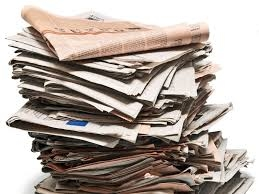paper: (27, 136, 253, 194), (17, 4, 238, 61), (8, 61, 213, 121), (3, 31, 215, 80), (6, 104, 201, 148)
